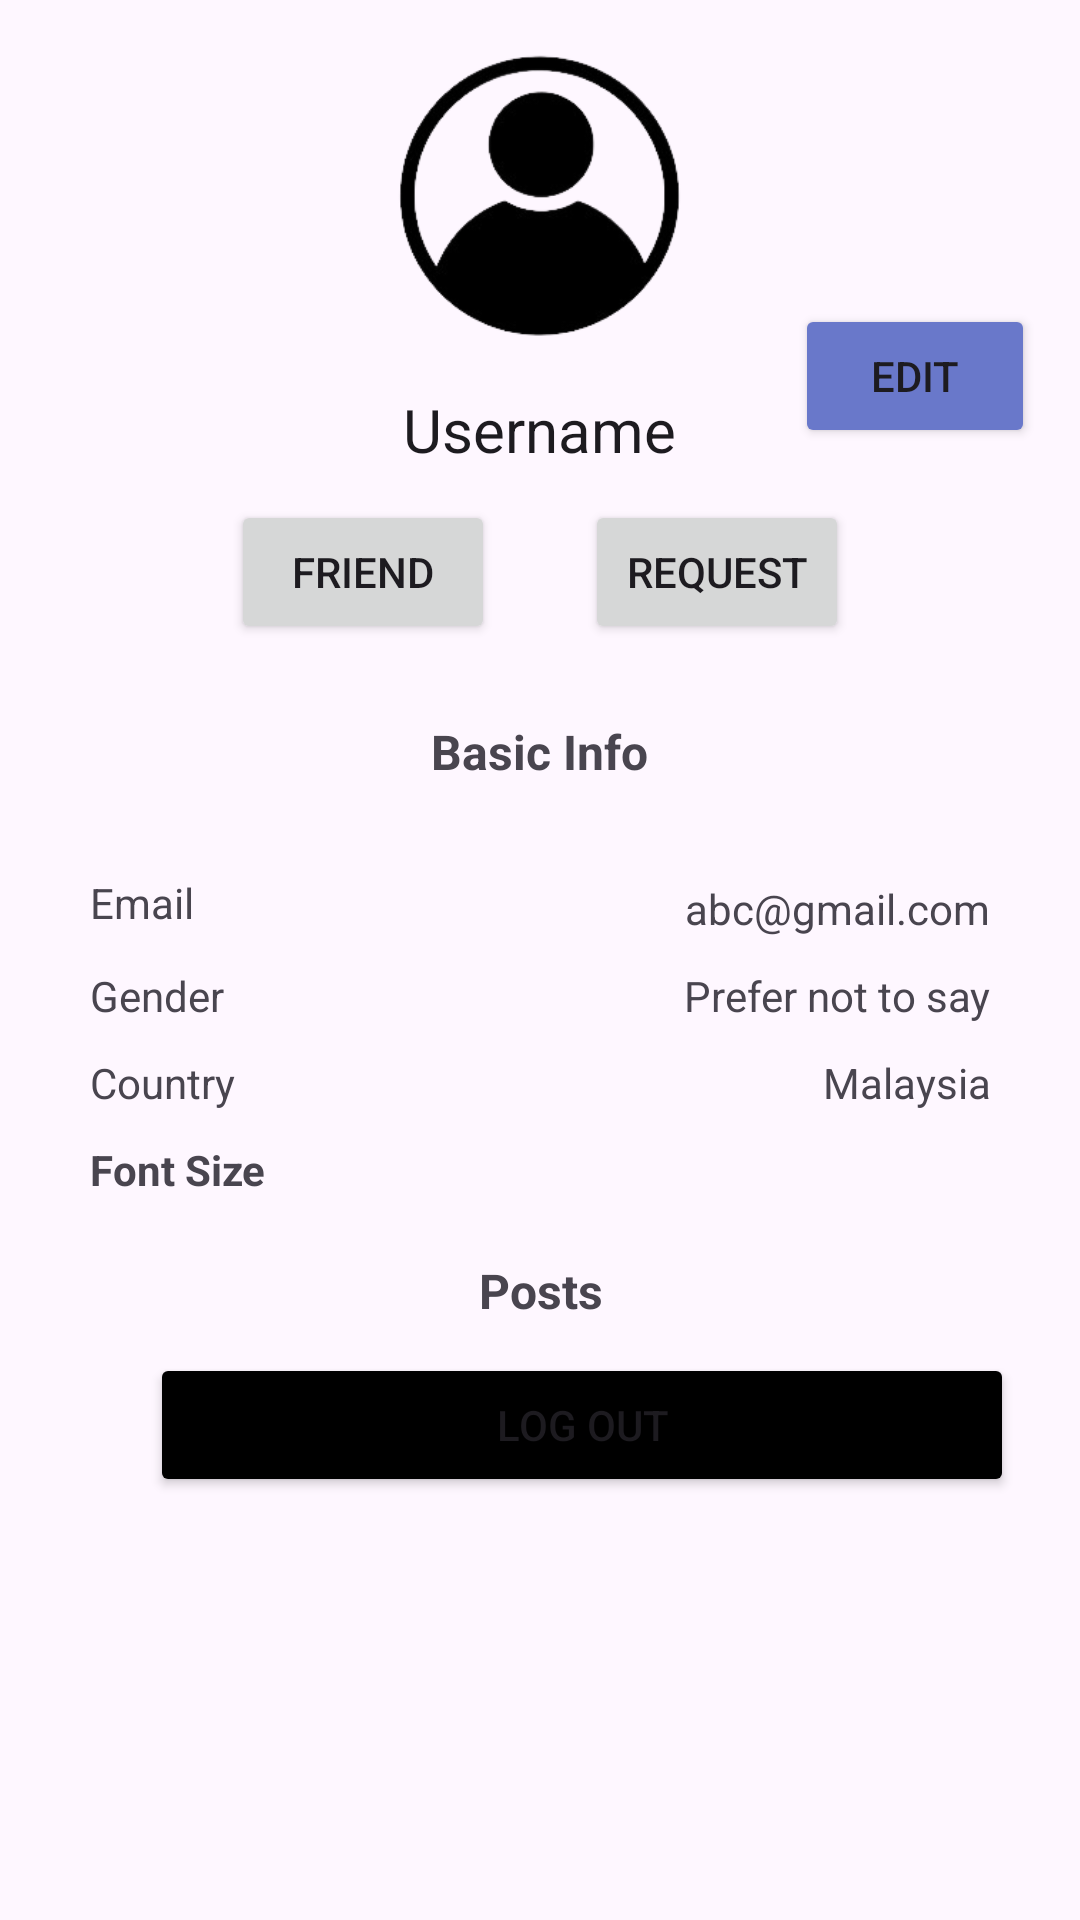

Screen size 1080px x 1920px. Icon name, then its center in pixels as (x,y):
profile: (539,196)
